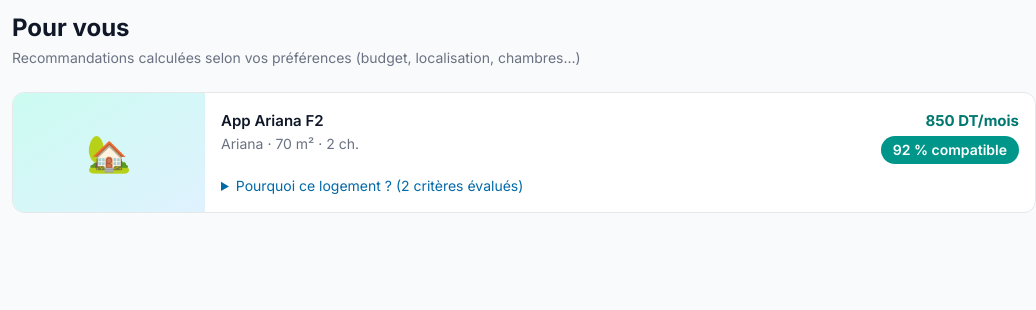
Test: RecommandationsPage (F2 + F8) › affiche le score et les explications (F8)
The image size is (1036, 310).
Expected: the link "App Ariana F2" is shown, 221,111 -> 324,130
Expected: the text "92 % compatible" is shown, 881,136 -> 1019,164
Click the heading "Pourquoi ce logement ? (2 critères évalués)": {"x": 380, "y": 186} 236,177 -> 523,194
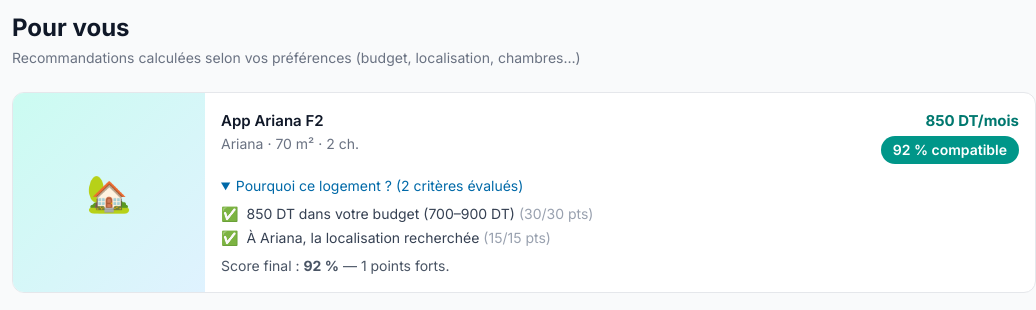
Expected: the text "850 DT dans votre budget (700–900 DT)(30/30 pts)" is shown, 246,204 -> 594,224
Expected: the text "(30/30 pts)" is shown, 519,205 -> 594,222
